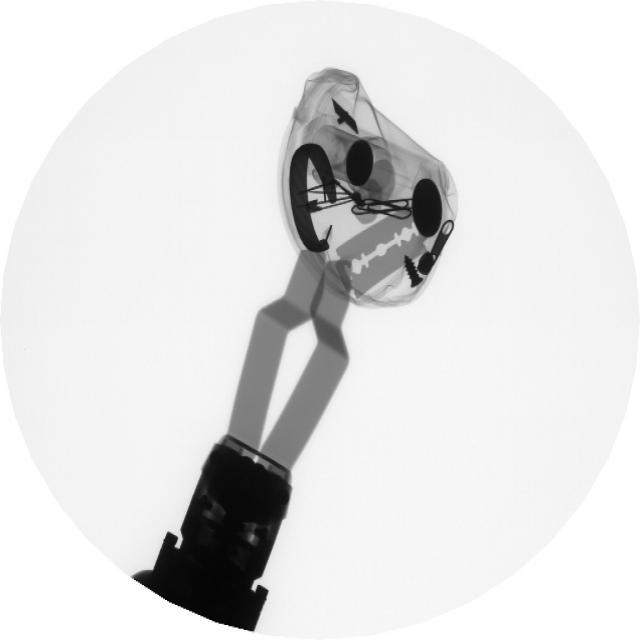BLADE: (336, 202, 443, 308)
SCREW: (389, 254, 433, 304)
